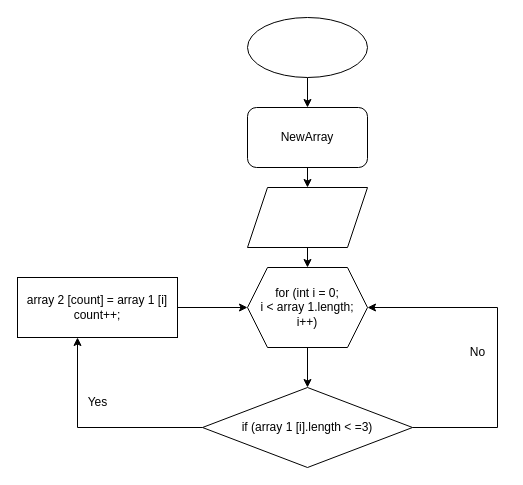
Some shapes in this 523 by 485 pixel diagram are drawn without their labels. Here are the shapes that lost their labels. From the top down, the centre of each, then its label:
At (x=307, y=47): "Start".
At (x=307, y=217): "string[] array 1 string array 2 int count = 0".
